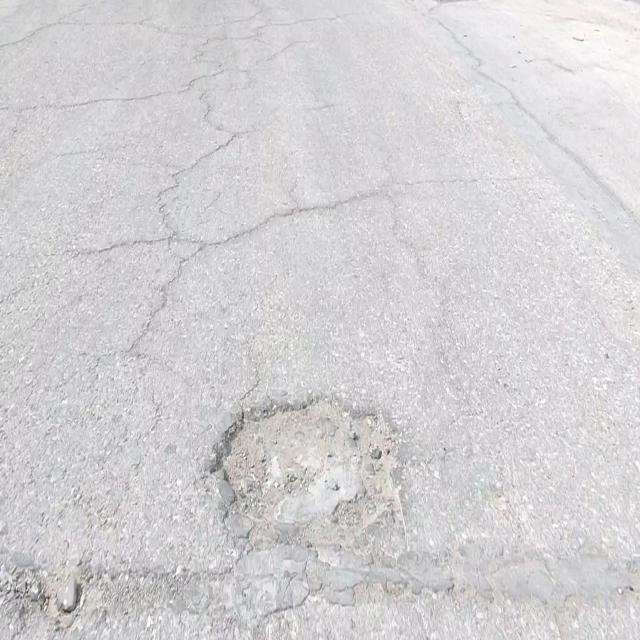Potholes: (207, 389, 404, 548)
